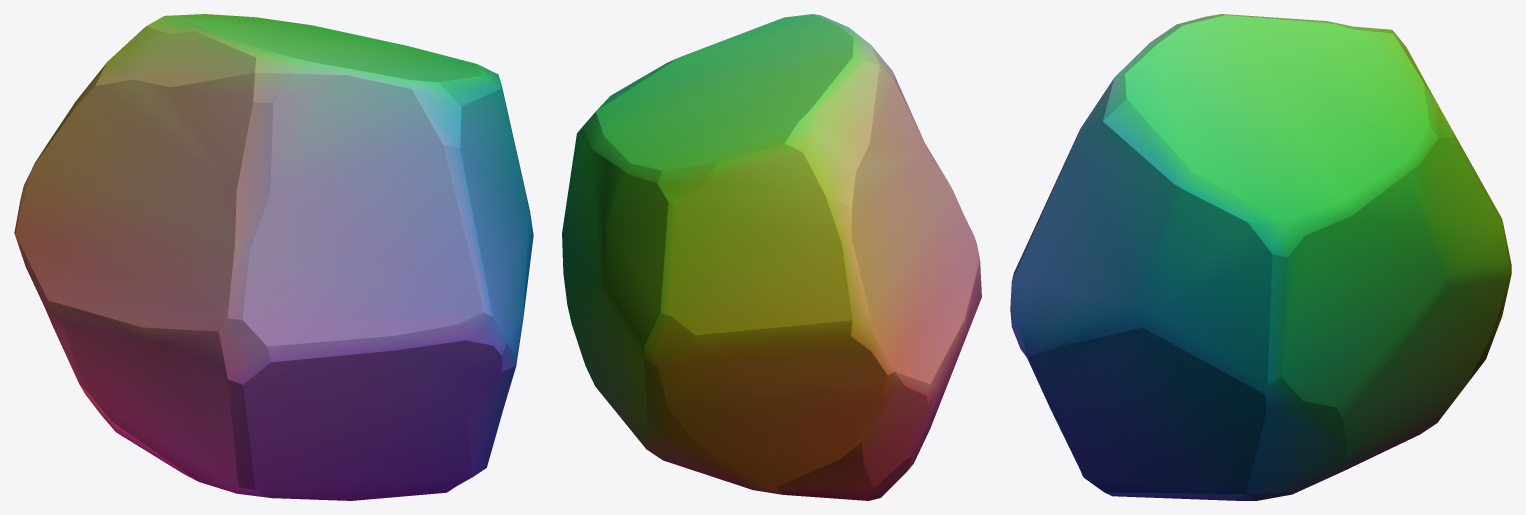
The picture shows the model from 3 angles, left to right: view 1: azimuth 30°, elevation 25°; view 2: azimuth 150°, elevation 25°; view 3: azimuth 270°, elevation 25°; orthographic projection. The views are drawn at different scales.
Parts seen in each view (by area): view 1: st_gc_026_sm; view 2: st_gc_026_sm; view 3: st_gc_026_sm.
Part boxes in pixels (box(x1,y1,x2,y2)): st_gc_026_sm: box(14, 14, 533, 500); st_gc_026_sm: box(562, 14, 981, 500); st_gc_026_sm: box(1010, 14, 1511, 500).
Bounding box in the file's own units: 162 × 155 × 168.
